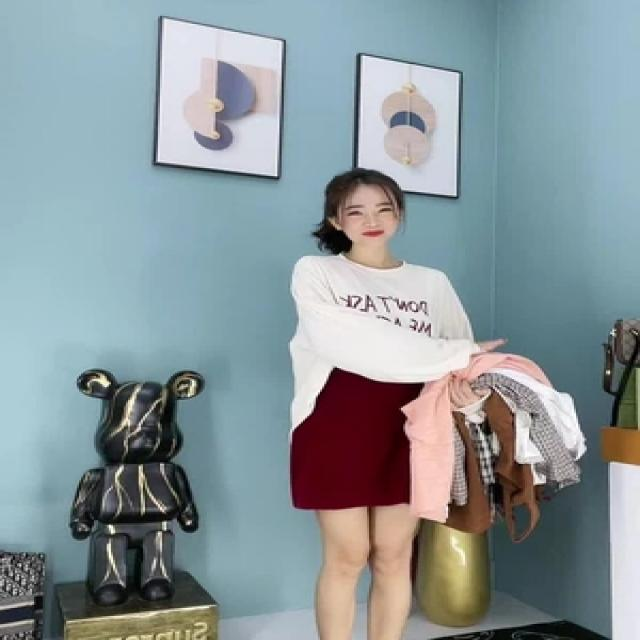clothes: (278, 250, 478, 512)
